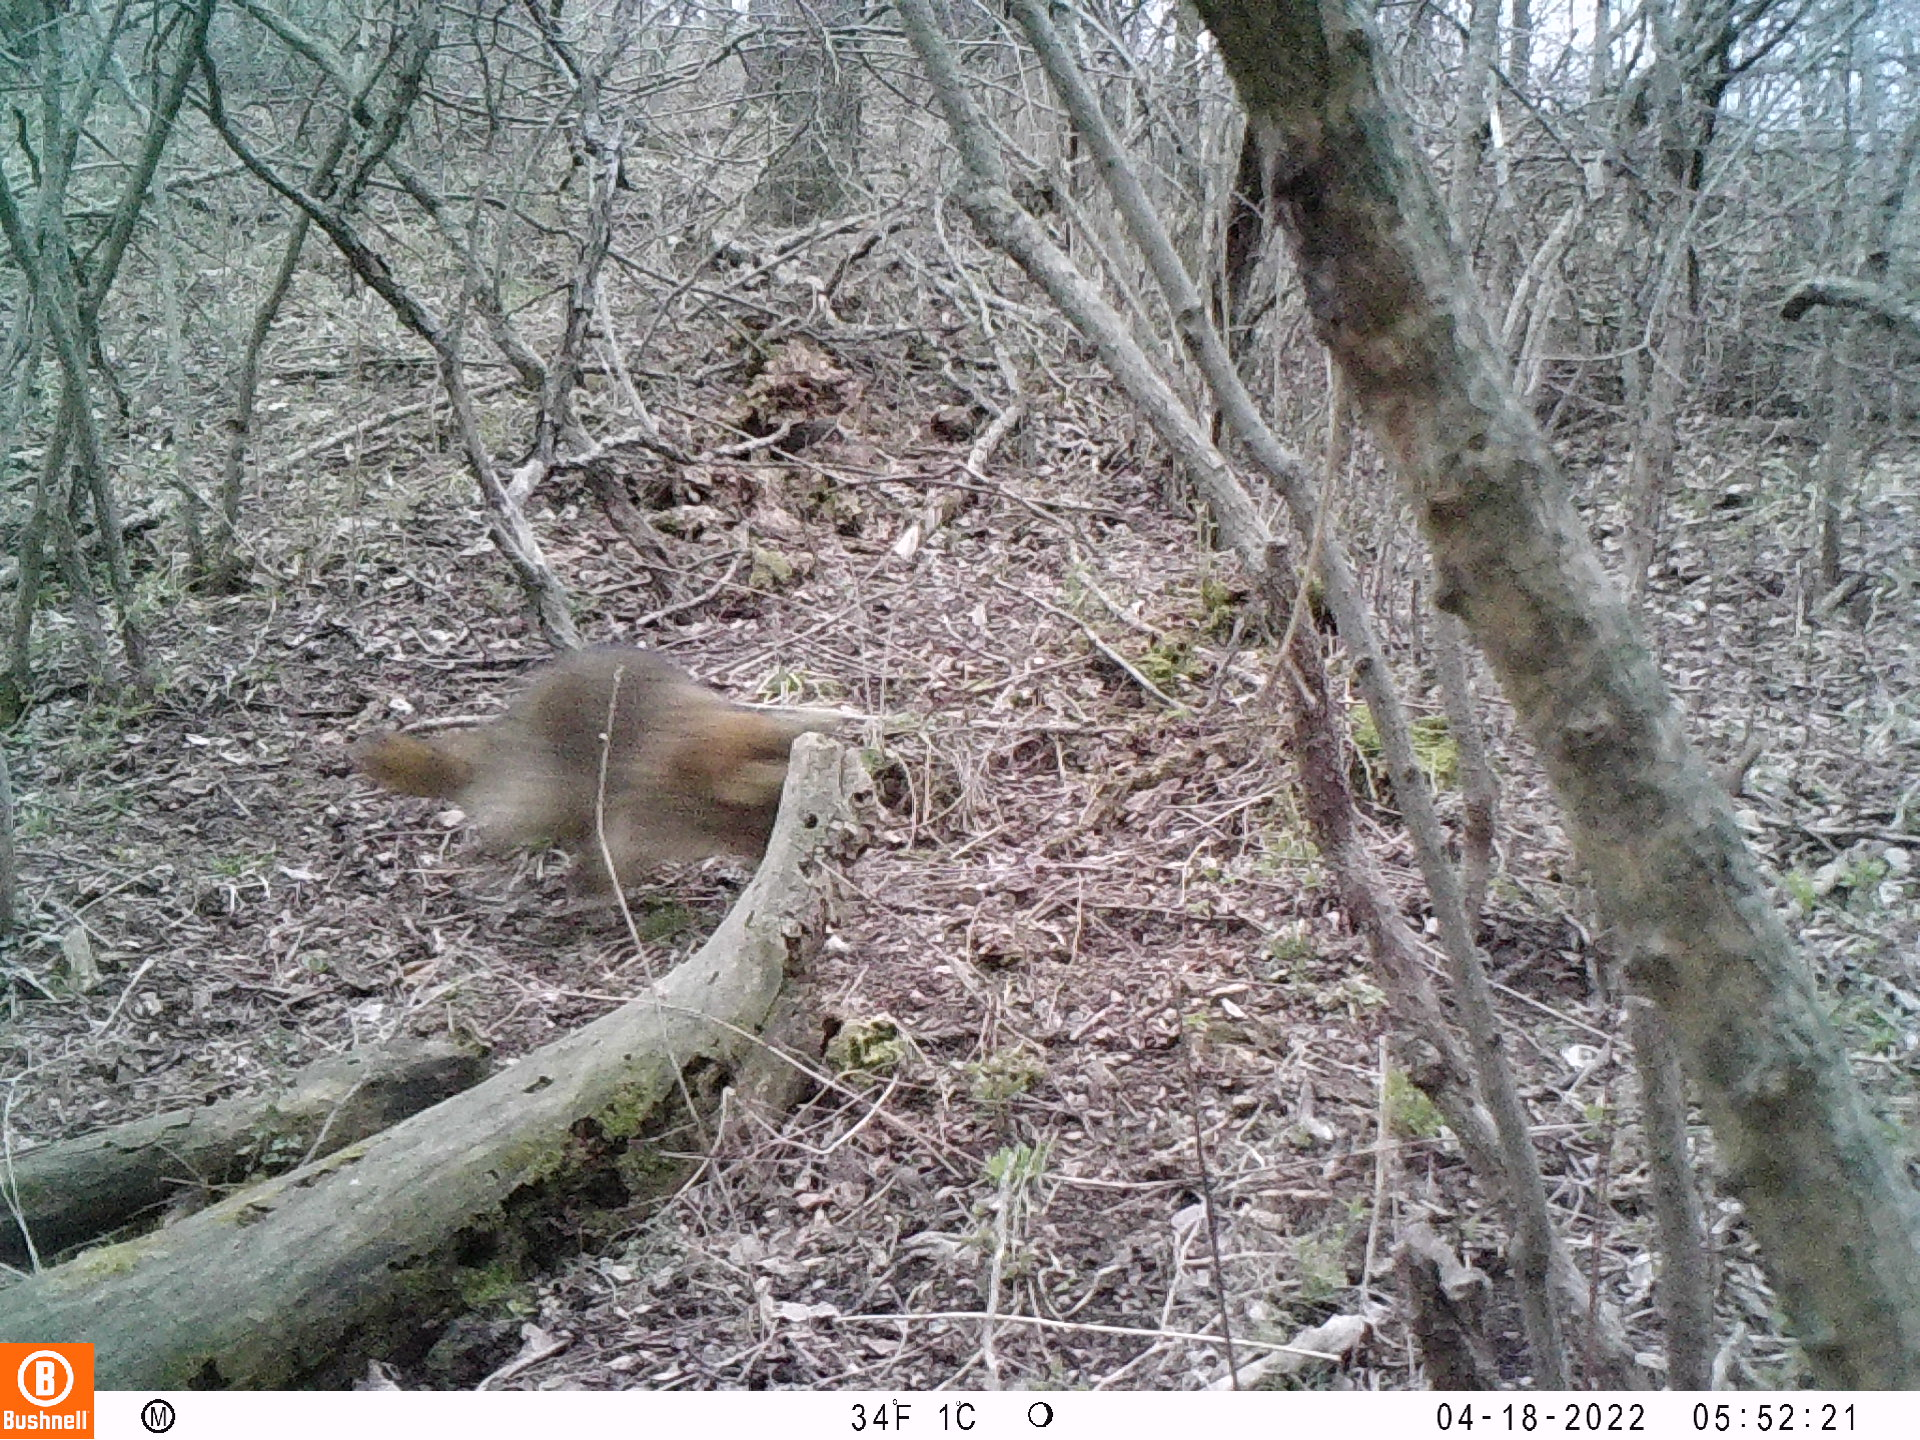Raccoon: (348, 638, 851, 898)
